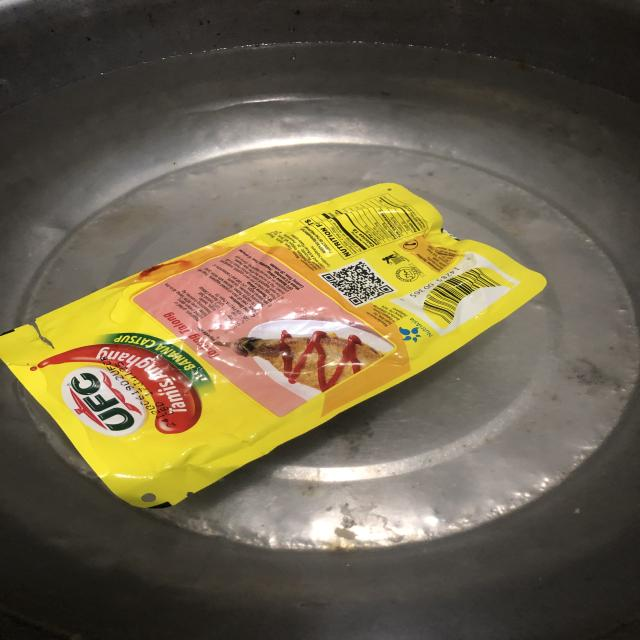Plastic Pouch: (0, 197, 560, 528)
